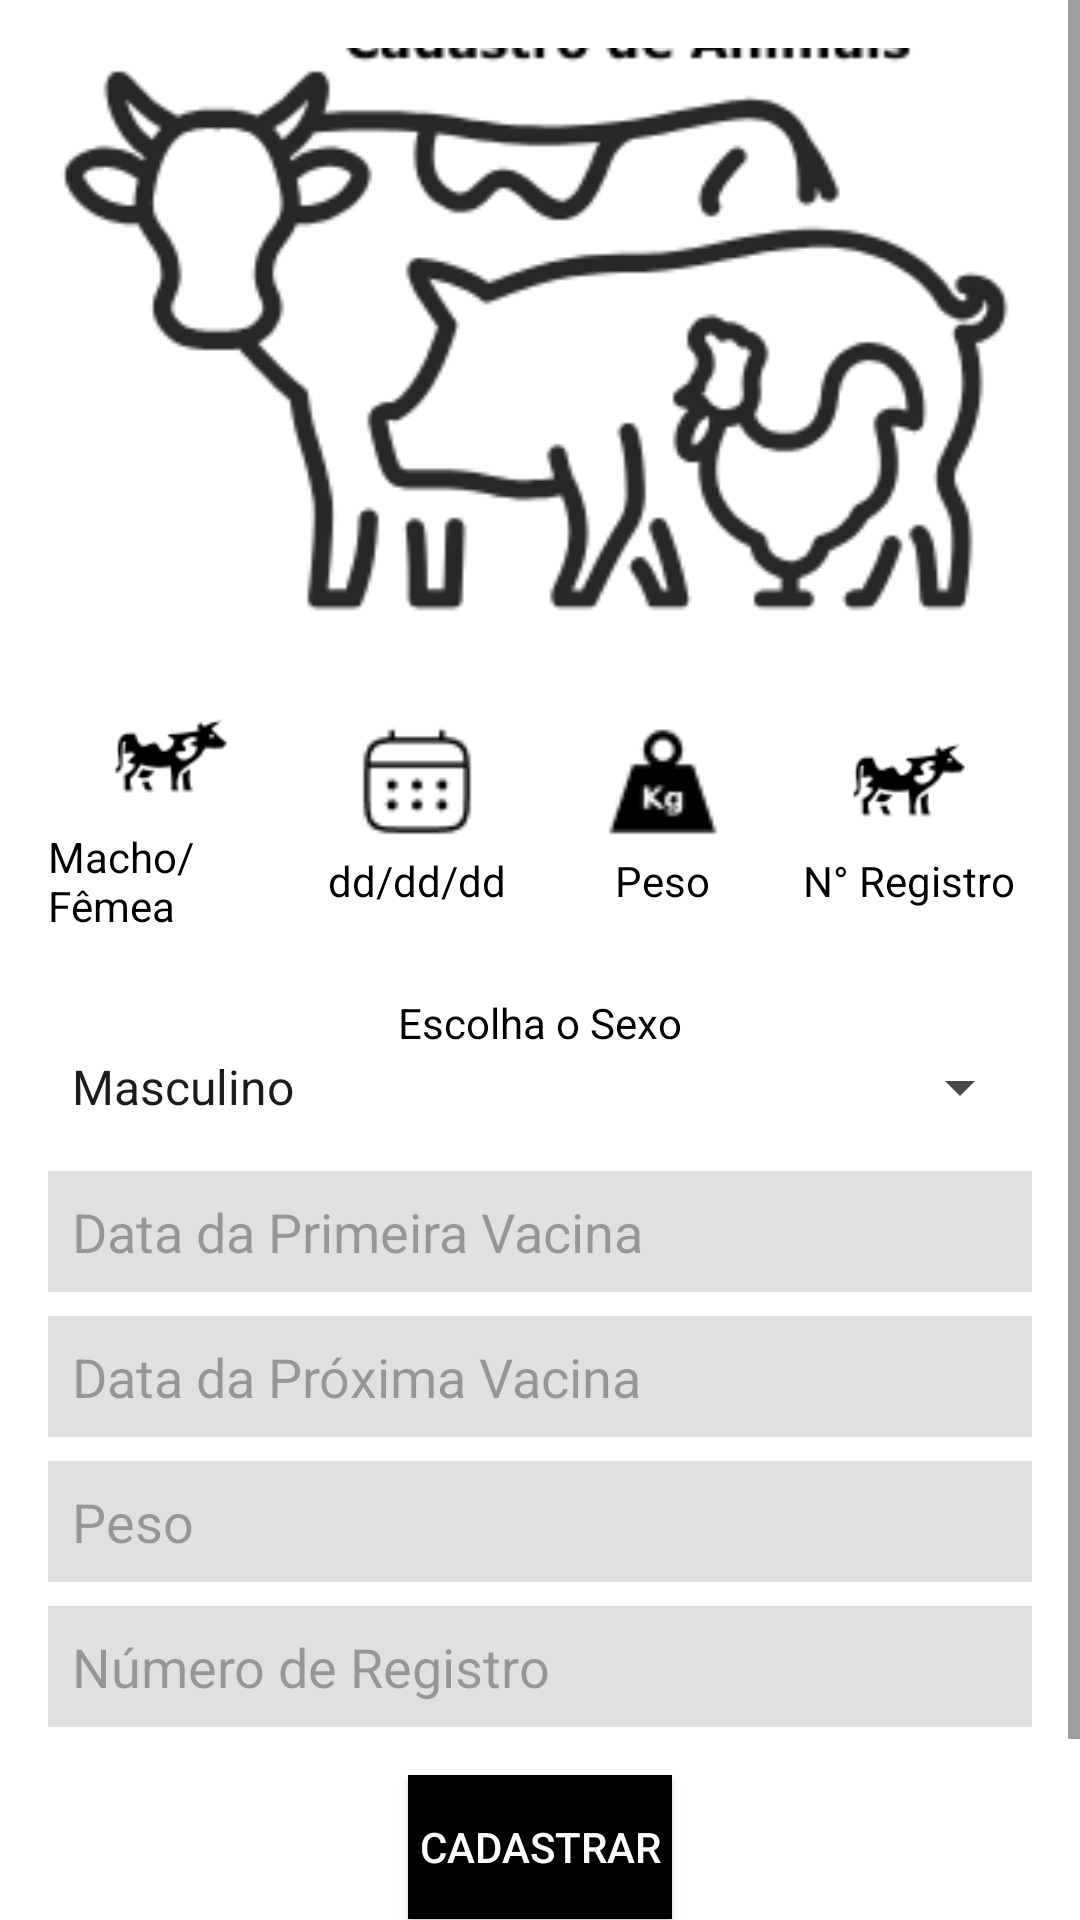

Locate icon controls on the screen. Image size 1080×1920, boxes as (x1, y1, x2, y2).
Ícone de calendário: (363, 729, 471, 834)
